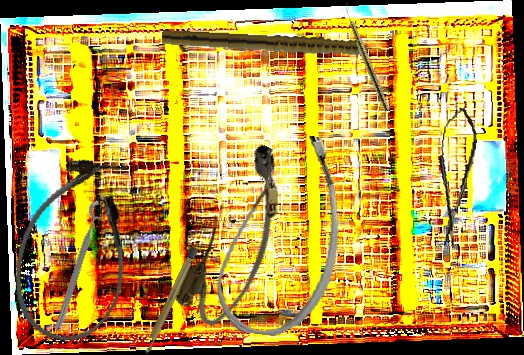Cannula: (210, 126, 351, 343), (0, 148, 149, 352), (170, 138, 308, 334)
Fixation Ring: (50, 197, 114, 335)
Handpiece: (161, 29, 391, 61), (340, 1, 392, 113)
Micro Scissor: (427, 105, 482, 249)
Scalpel Handle: (141, 246, 199, 355)
